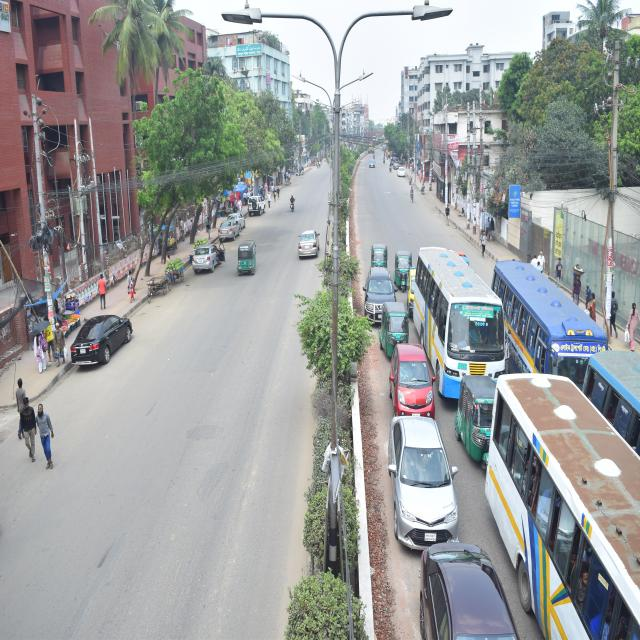bus: (484, 349, 640, 640), (487, 227, 617, 392), (411, 225, 515, 393)
car: (376, 400, 484, 558), (410, 535, 536, 640), (377, 328, 446, 426), (57, 305, 134, 388), (357, 247, 401, 333), (292, 215, 331, 278), (185, 238, 232, 271), (215, 215, 243, 240), (246, 192, 269, 221), (364, 153, 378, 176), (396, 166, 406, 182)
motorbike: (284, 193, 303, 213)
